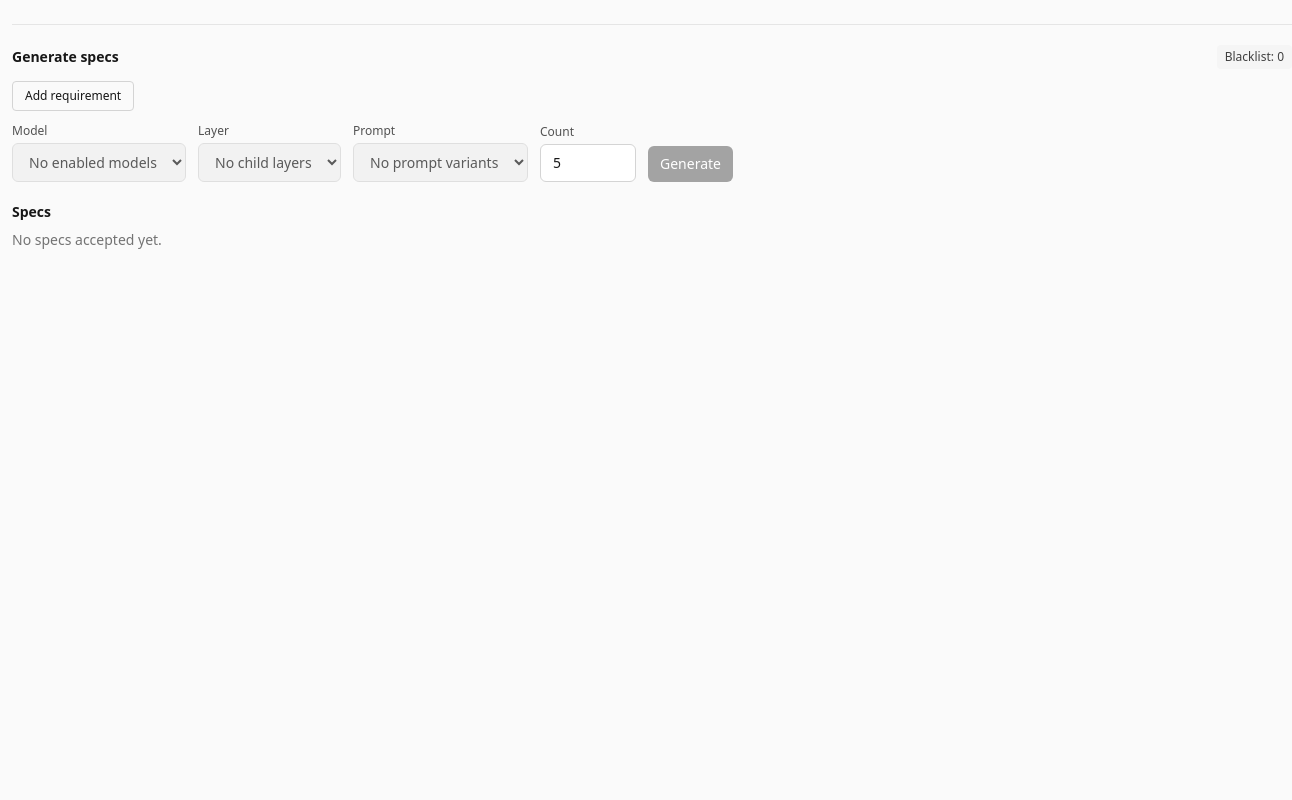
Test: GenerationPanel › generates candidates, accepts one, refetches specs, and rejects one
Check: the dropdown named "Generation model" is shown, box [12, 143, 186, 182]
Replace the text in the number field named "Generation count" with "2" at (588, 163), box [540, 144, 636, 182]
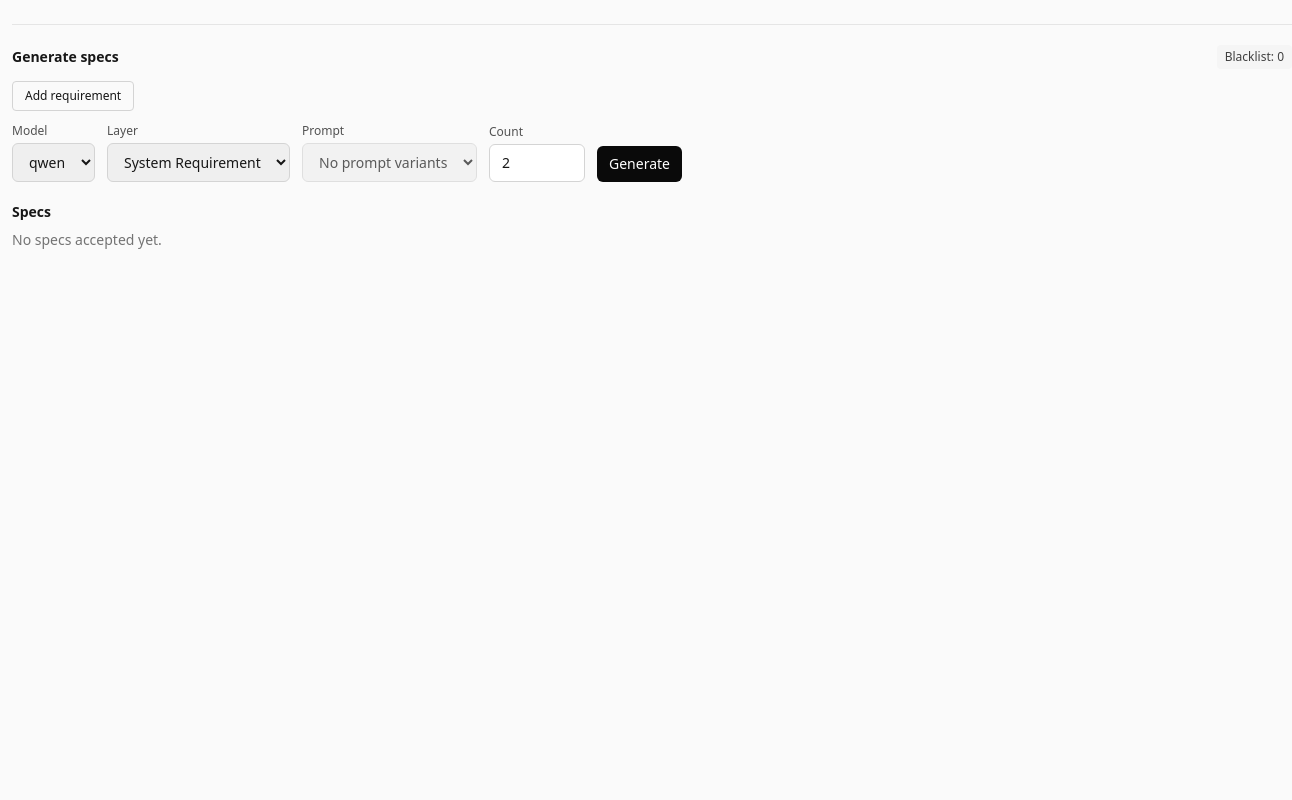
Check: the dropdown named "Target layer" shows "System Requirement", box [107, 143, 290, 182]
Click the button "Generate" at (640, 164), box [597, 146, 682, 182]
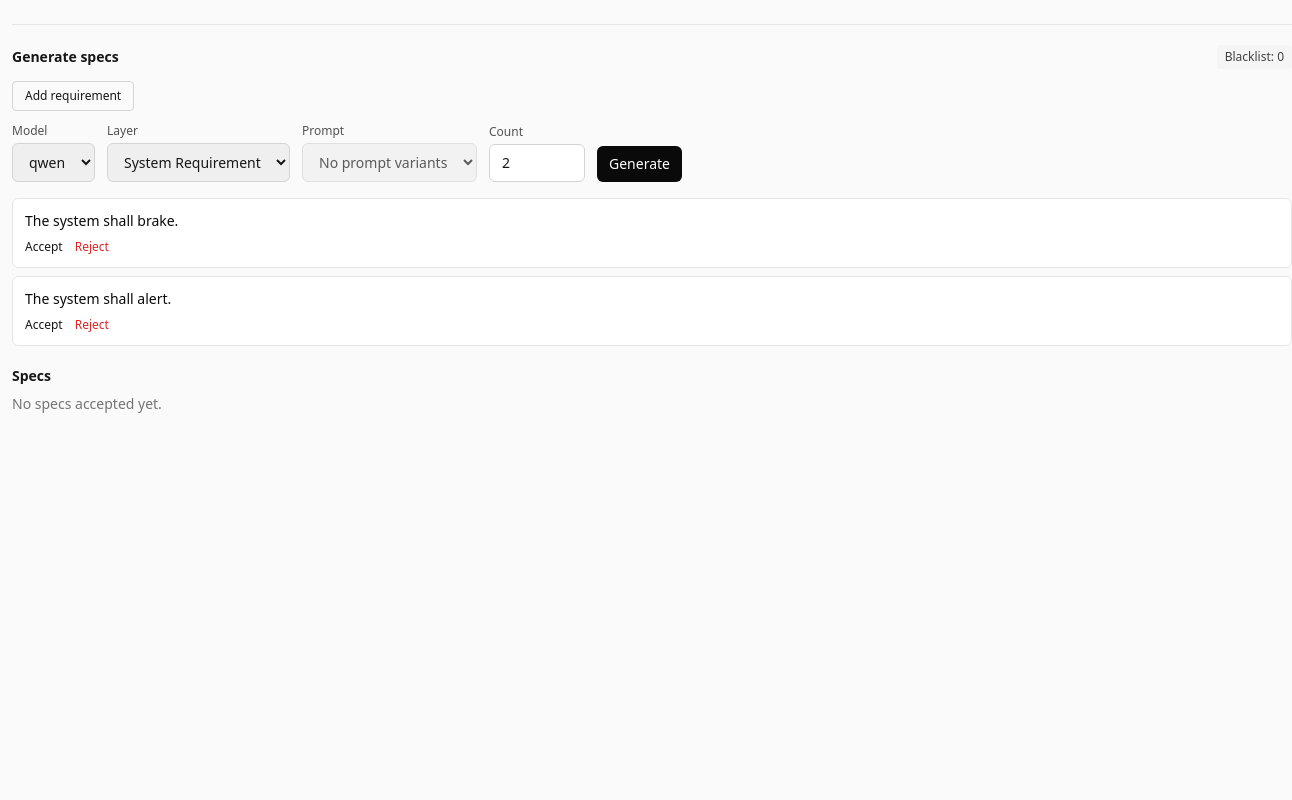
Check: the text "The system shall brake." is shown, box [25, 211, 178, 230]
Check: the text "The system shall alert." is shown, box [25, 289, 171, 308]
Click the button "Accept" below "The system shall brake." at (44, 247), box [25, 239, 63, 255]
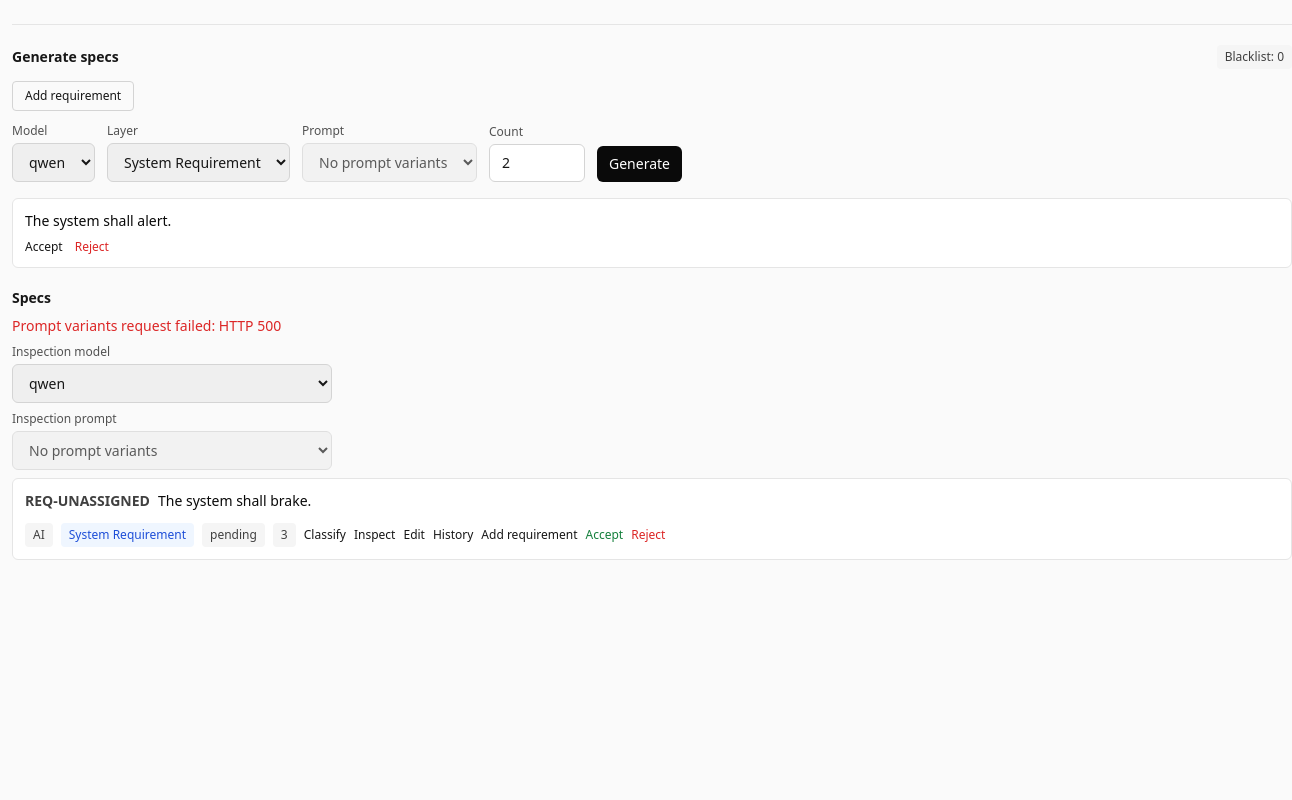
Check: the number of buttons "The system shall brake." is 1, box [25, 491, 1279, 511]
Click the button "Reject" below "The system shall alert." at (92, 247), box [75, 239, 109, 255]
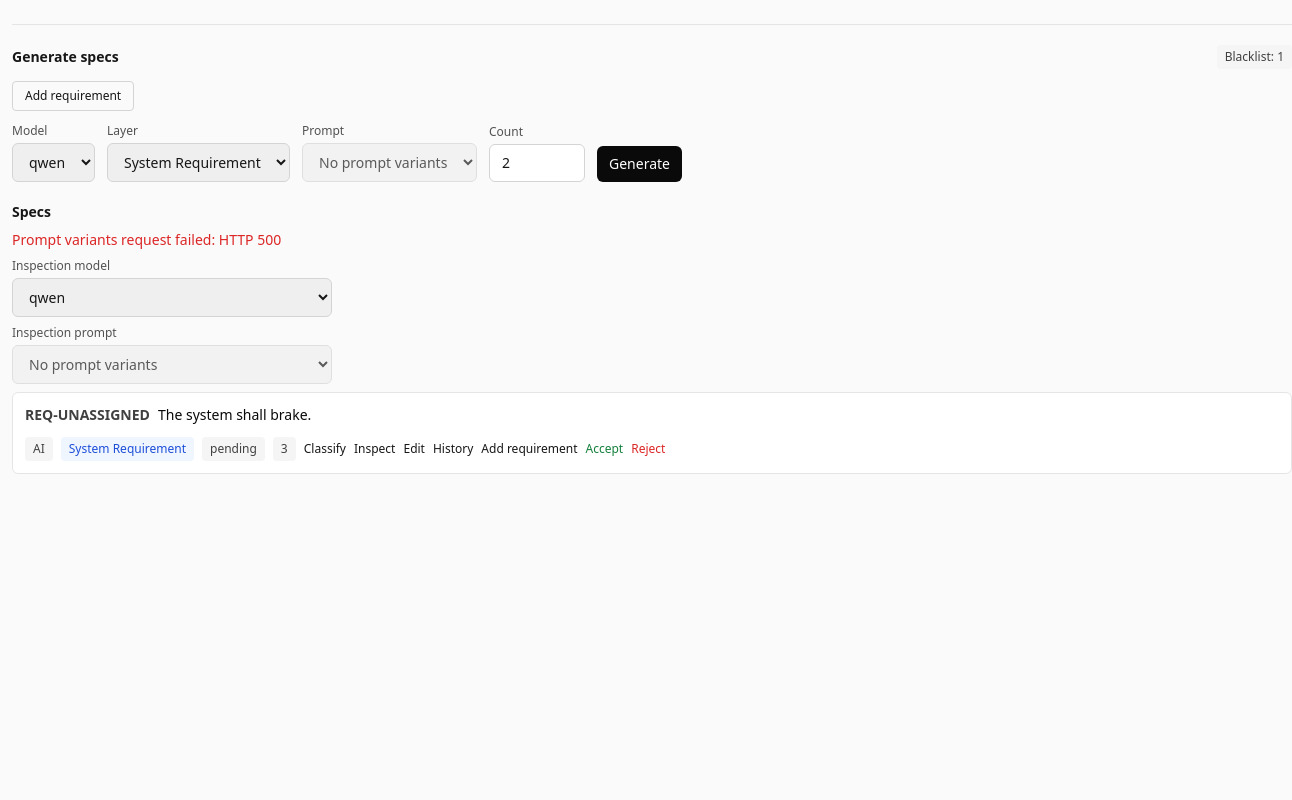
Check: the text "The system shall alert." is gone
Check: the text "Blacklist: 1" is shown, box [1217, 45, 1291, 69]
